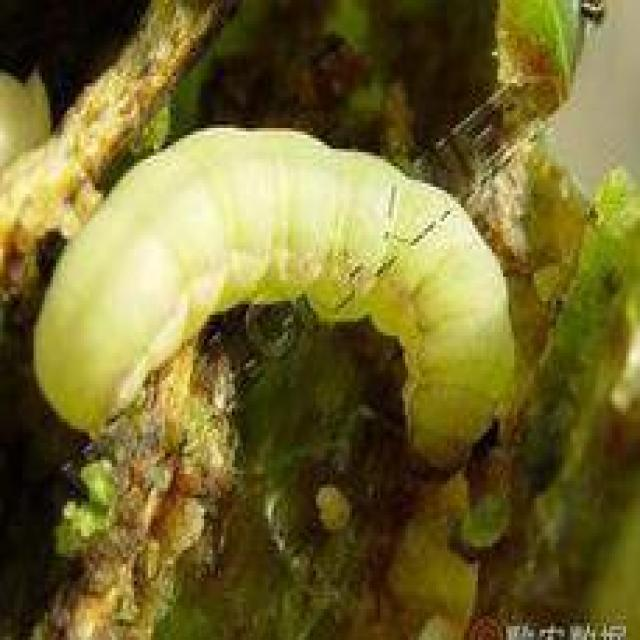BeetArmyWorm-Larva-: (22, 120, 523, 478)
